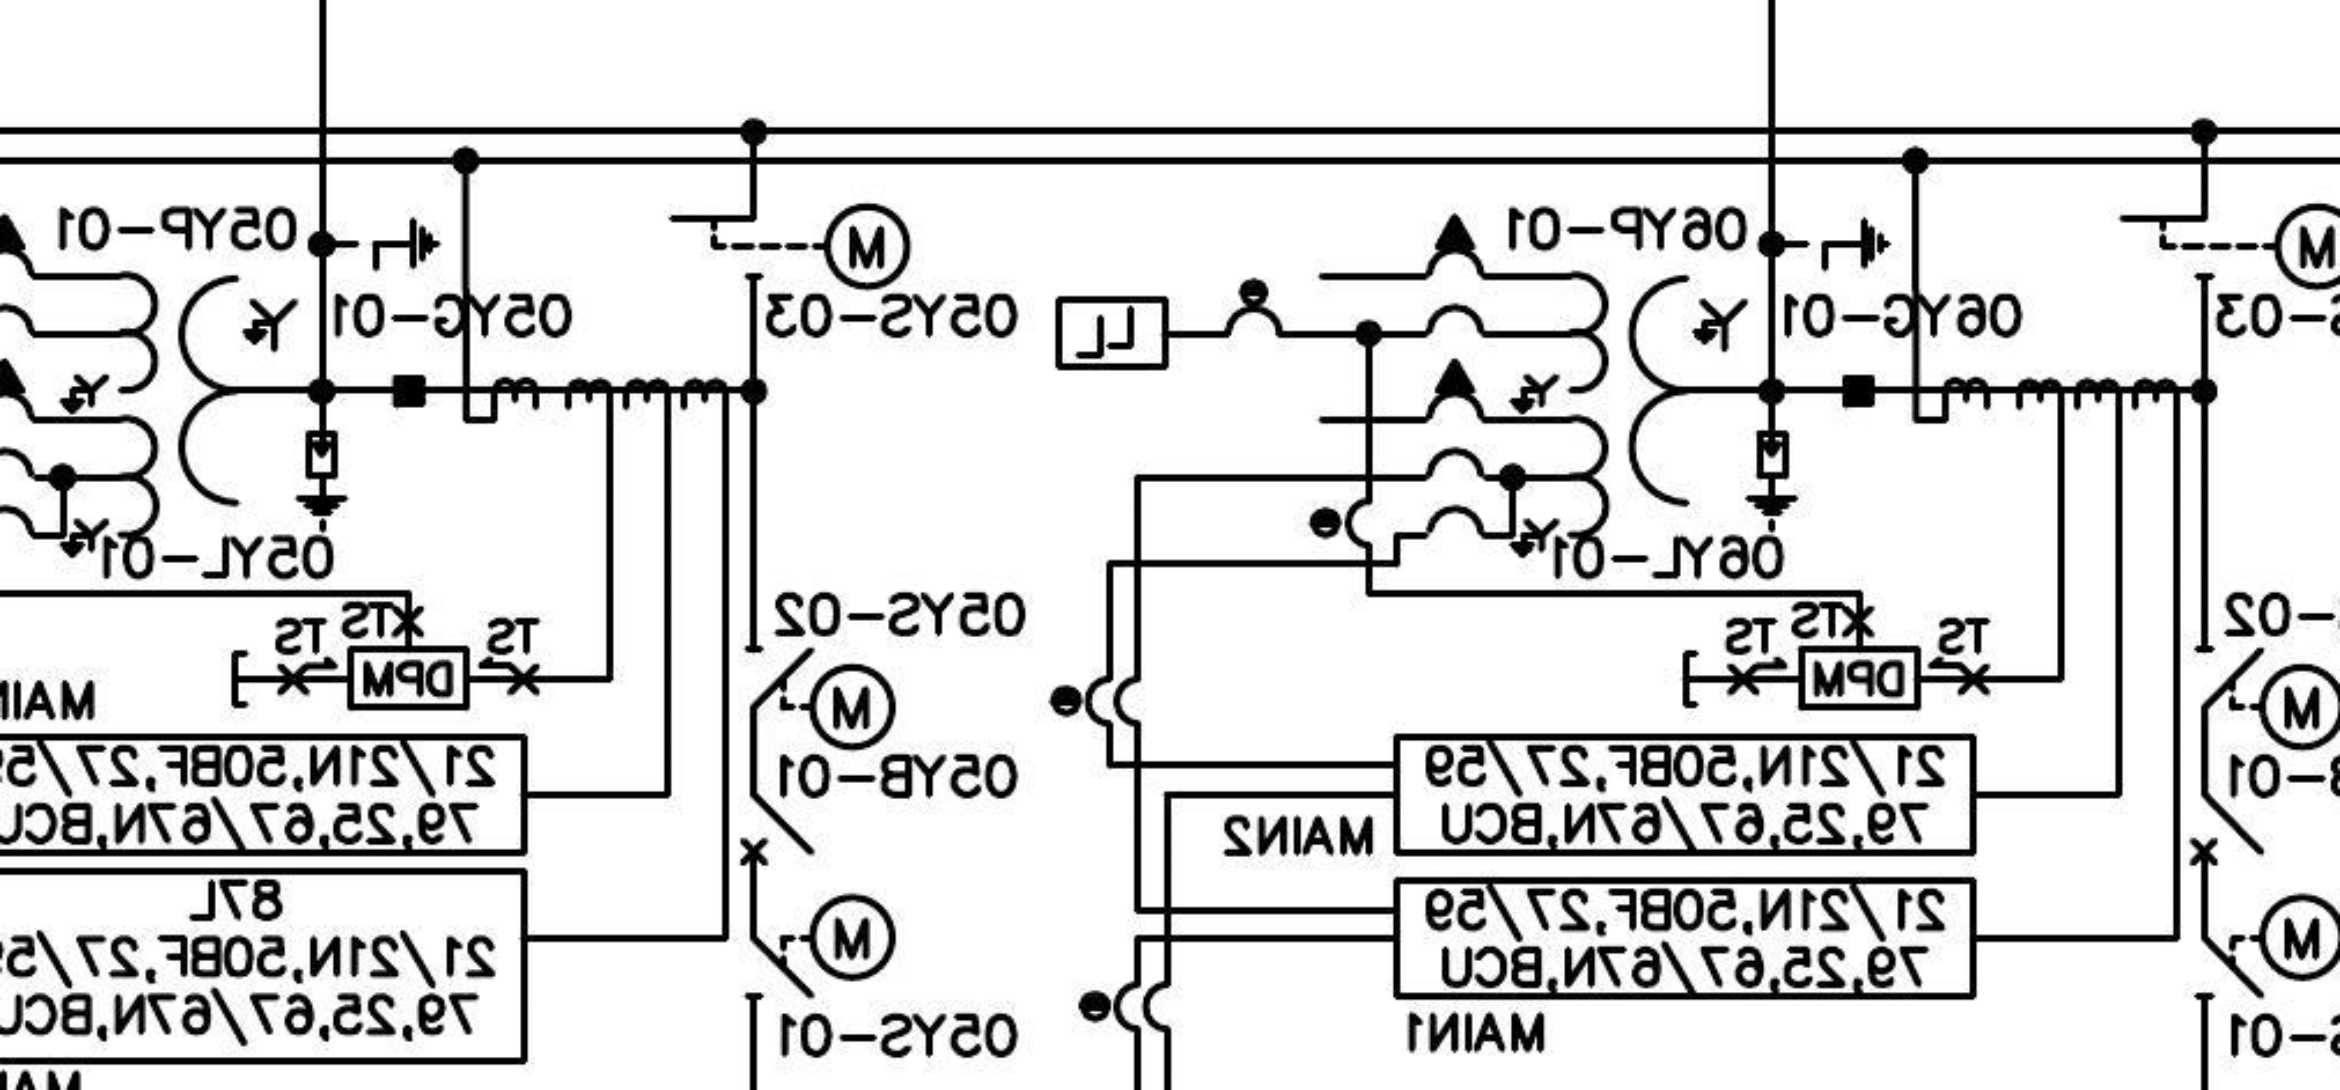115_1way_ds_w_motor: (668, 203, 915, 294), (743, 644, 899, 753), (743, 893, 899, 1002)
115_breaker: (738, 794, 817, 868), (2188, 793, 2266, 867)
115_gs: (1799, 214, 1894, 274), (350, 215, 445, 274)
115_la: (294, 430, 351, 535), (1744, 429, 1800, 535)
115_vt_3p: (1423, 211, 1750, 559)
DPM: (1798, 645, 1922, 712), (349, 645, 473, 712)
LL: (1053, 294, 1170, 371)
